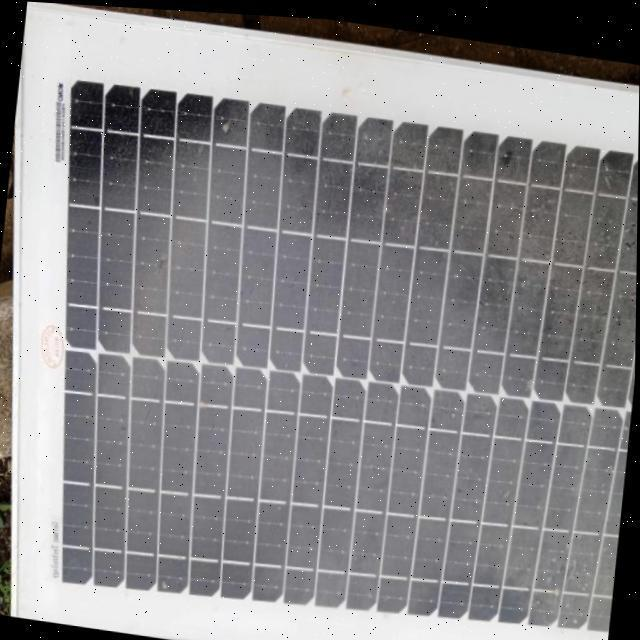Surface Contaminant: (34, 63, 639, 640)
